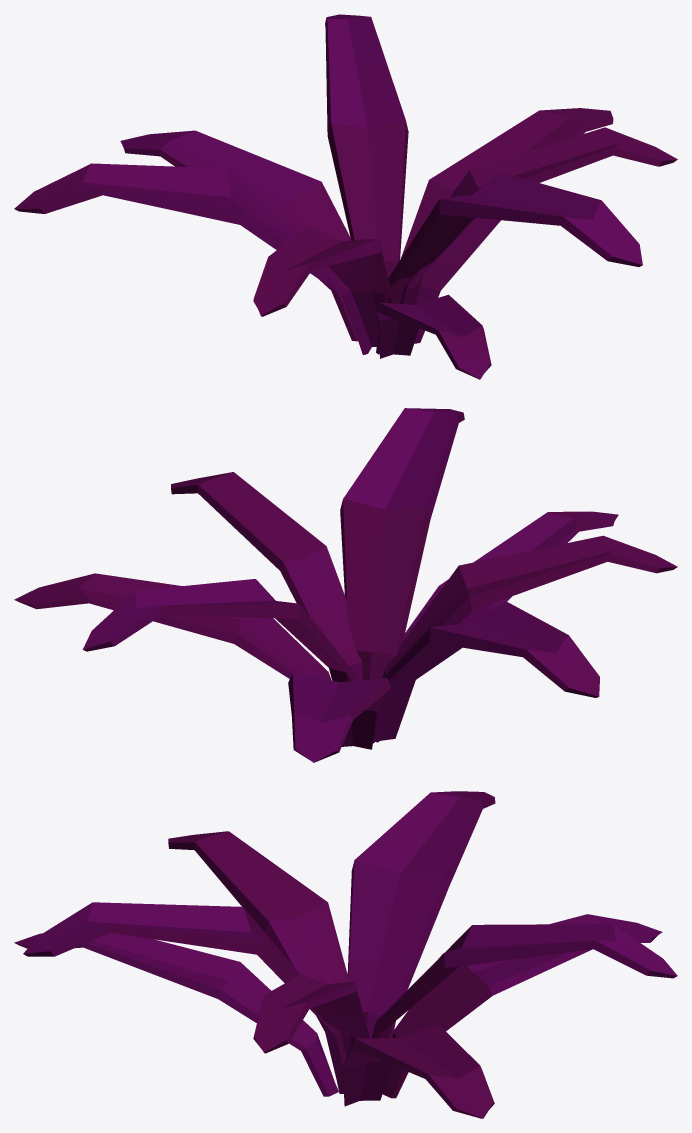
The model's file is plant_01.glb.
The picture shows the model from 3 angles, top to bottom: view 1: azimuth 30°, elevation 25°; view 2: azimuth 150°, elevation 25°; view 3: azimuth 270°, elevation 25°; orthographic projection. The views are drawn at different scales.
Parts seen in each view (by area): view 1: SM_Plant_01; view 2: SM_Plant_01; view 3: SM_Plant_01.
Part boxes in pixels (box(x1,y1,x2,y2)): SM_Plant_01: box(14, 14, 677, 379); SM_Plant_01: box(14, 408, 677, 762); SM_Plant_01: box(14, 791, 677, 1118).
Bounding box in the file's own units: 1.37 × 0.479 × 1.37.
Materials: 1 (1 with a texture image).
